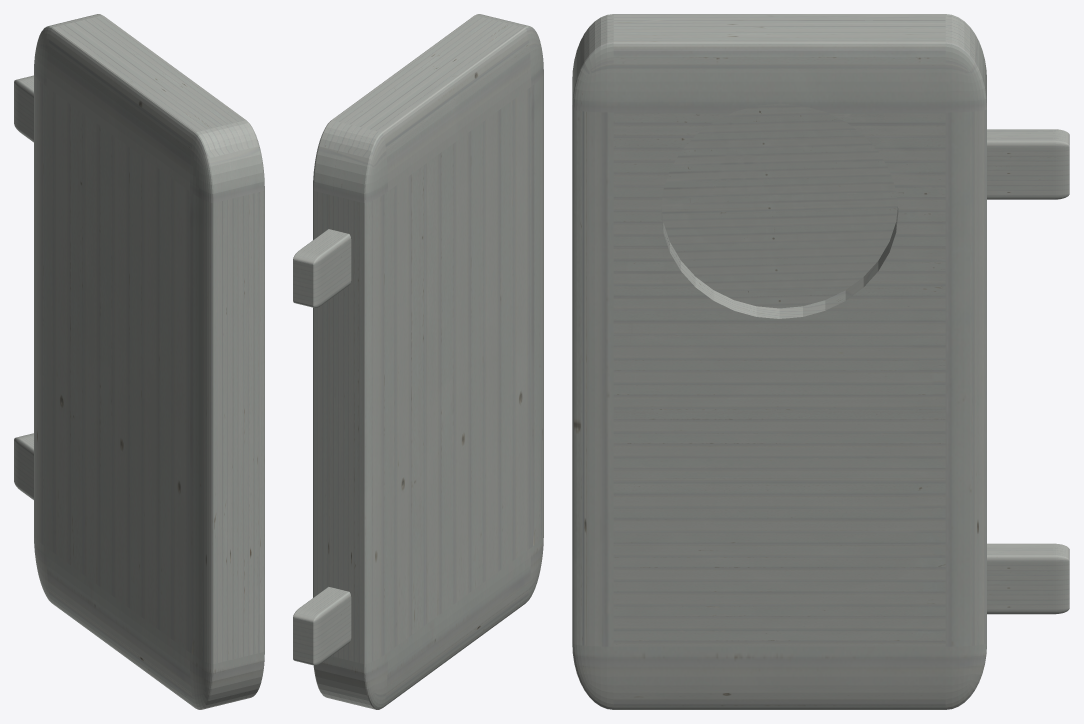
Rendered from Door2.fbx.
3 renders of one model, left to right at view 1: azimuth 30°, elevation 25°; view 2: azimuth 150°, elevation 25°; view 3: azimuth 270°, elevation 25°, orthographic. The views are drawn at different scales.
Visible parts, largest first — view 1: Cube; view 2: Cube; view 3: Cube.
Boxes of the visible parts, x1,y1,x2,y2 form: Cube: [14, 14, 264, 709]; Cube: [293, 14, 543, 709]; Cube: [572, 14, 1069, 709].
Bounding box in the file's own units: 27.25 × 241 × 162.
